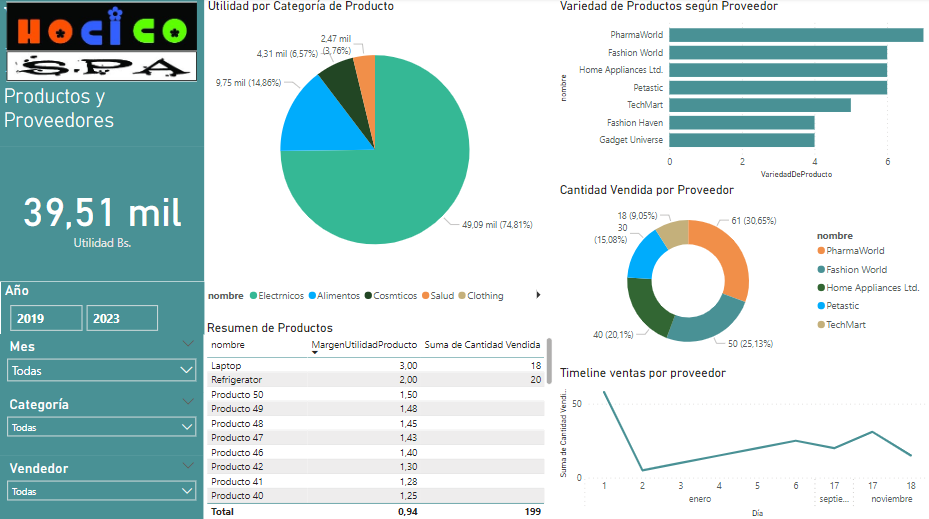

Layout of this report page (visuals, bound fields, positions):
{"tool":"powerbi","page":{"name":"productos y proveedores","canvas":[1280,720],"ordinal":2},"visuals":[{"type":"pieChart","title":"Utilidad por Categoría de Producto","fields":{"Y":["VeterinariaMedidas.Utilidad"],"Category":["veterinaria_sis2 d_categoria.nombre"]},"box":[280.8,0,470.7,428],"z":0},{"type":"tableEx","title":"Resumen de Productos","fields":{"Values":["d_producto.nombre","VeterinariaMedidas.MargenUtilidadProducto","f_venta.Cantidad Vendida"]},"box":[279.4,443.2,485.8,276.6],"z":1000},{"type":"barChart","title":"Variedad de Productos según Proveedor","fields":{"Category":["veterinaria_sis2 d_proveedor.nombre"],"Y":["VeterinariaMedidas.VariedadDeProducto"]},"box":[765.2,0,514.8,253.2],"z":2000},{"type":"donutChart","title":"Cantidad Vendida por Proveedor","fields":{"Category":["veterinaria_sis2 d_proveedor.nombre"],"Y":["f_venta.Cantidad Vendida"]},"box":[765.2,253.2,514.8,253.2],"z":3000},{"type":"lineChart","title":"Timeline ventas por proveedor","fields":{"Category":["d_tiempo.fecha.Variación.Jerarquía de fechas.Mes","veterinaria_sis2 d_tiempo.fecha.Variación.Jerarquía de fechas.Día"],"Y":["veterinaria_sis2 f_venta.cant_total"]},"box":[765.5,505.5,514.5,215.1],"z":4000},{"type":"card","title":"Utilidad","fields":{"Values":["VeterinariaMedidas.Utilidad"]},"box":[0,205.3,281.3,185.3],"z":5000},{"type":"textbox","box":[0,0,281.2,205],"z":6000},{"type":"slicer","title":"Categoría","fields":{"Values":["veterinaria_sis2 d_categoria.nombre"]},"box":[0,542.7,280,88],"z":7000},{"type":"slicer","title":"Vendedor","fields":{"Values":["veterinaria_sis2 d_vendedor.usuario"]},"box":[0,630.7,280,89.3],"z":8000},{"type":"slicer","fields":{"Values":["veterinaria_sis2 d_tiempo.fecha.Variación.Jerarquía de fechas.Mes"]},"box":[0,462.7,280,80],"z":9000},{"type":"slicer","title":"Año","fields":{"Values":["veterinaria_sis2 d_tiempo.fecha.Variación.Jerarquía de fechas.Año"]},"box":[1.3,390.7,280,72],"z":10000},{"type":"image","box":[0,0,279.4,119.7],"z":11000}]}

Visuals, with their boxes in screenshot pixels (x1, y1, x2, y2), scaled from the page's 1280x720 canvas onto the 929x519 screenshot:
"Utilidad por Categoría de Producto" pieChart: {"x1": 204, "y1": 0, "x2": 545, "y2": 309}
"Resumen de Productos" tableEx: {"x1": 203, "y1": 319, "x2": 555, "y2": 518}
"Variedad de Productos según Proveedor" barChart: {"x1": 555, "y1": 0, "x2": 928, "y2": 183}
"Cantidad Vendida por Proveedor" donutChart: {"x1": 555, "y1": 183, "x2": 928, "y2": 365}
"Timeline ventas por proveedor" lineChart: {"x1": 556, "y1": 364, "x2": 928, "y2": 518}
"Utilidad" card: {"x1": 0, "y1": 148, "x2": 204, "y2": 282}
textbox: {"x1": 0, "y1": 0, "x2": 204, "y2": 148}
"Categoría" slicer: {"x1": 0, "y1": 391, "x2": 203, "y2": 455}
"Vendedor" slicer: {"x1": 0, "y1": 455, "x2": 203, "y2": 518}
slicer - veterinaria_sis2 d_tiempo.fecha.Variación.Jerarquía de fechas.Mes: {"x1": 0, "y1": 334, "x2": 203, "y2": 391}
"Año" slicer: {"x1": 1, "y1": 282, "x2": 204, "y2": 334}
image: {"x1": 0, "y1": 0, "x2": 203, "y2": 86}
